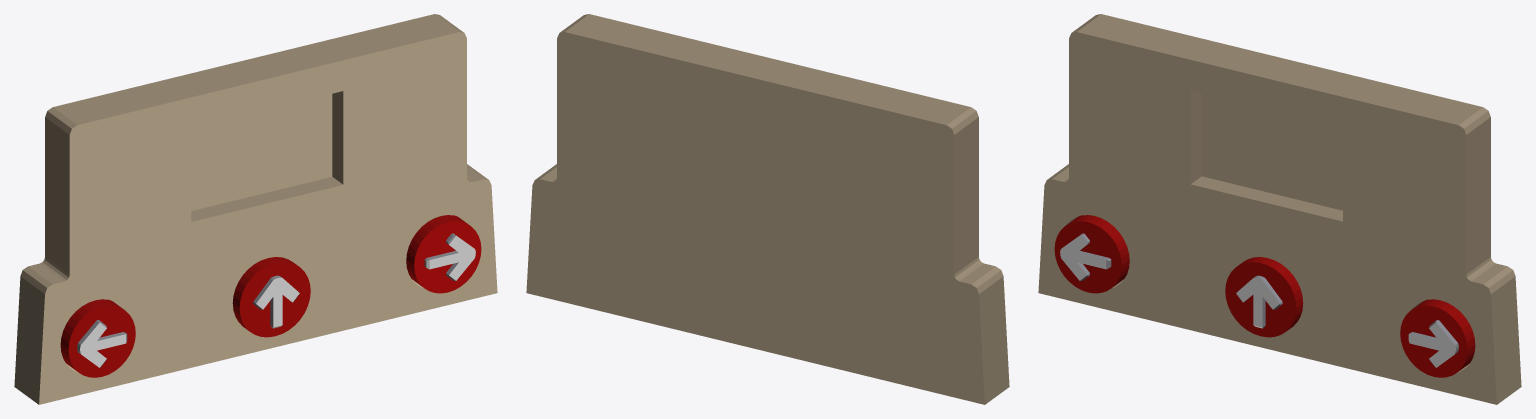
Rendered from tiger_console.fbx.
3 views of the same model, side by side, from view 1: azimuth 30°, elevation 25°; view 2: azimuth 150°, elevation 25°; view 3: azimuth 330°, elevation 25° (orthographic).
Parts seen in each view (by area): view 1: Tiger_Console, Btn_Center, Btn_Right, Btn_Left; view 2: Tiger_Console; view 3: Tiger_Console, Btn_Center, Btn_Left, Btn_Right.
Part boxes in pixels (x1,y1,x2,y2): Tiger_Console: [14, 14, 497, 404]; Btn_Center: [232, 257, 310, 337]; Btn_Right: [406, 215, 481, 293]; Btn_Left: [60, 299, 135, 377]; Tiger_Console: [526, 14, 1009, 404]; Tiger_Console: [1038, 14, 1521, 404]; Btn_Center: [1225, 257, 1303, 337]; Btn_Left: [1054, 215, 1129, 293]; Btn_Right: [1400, 299, 1475, 377].
Size of the model in its own units: 372 by 210 by 48.18.
